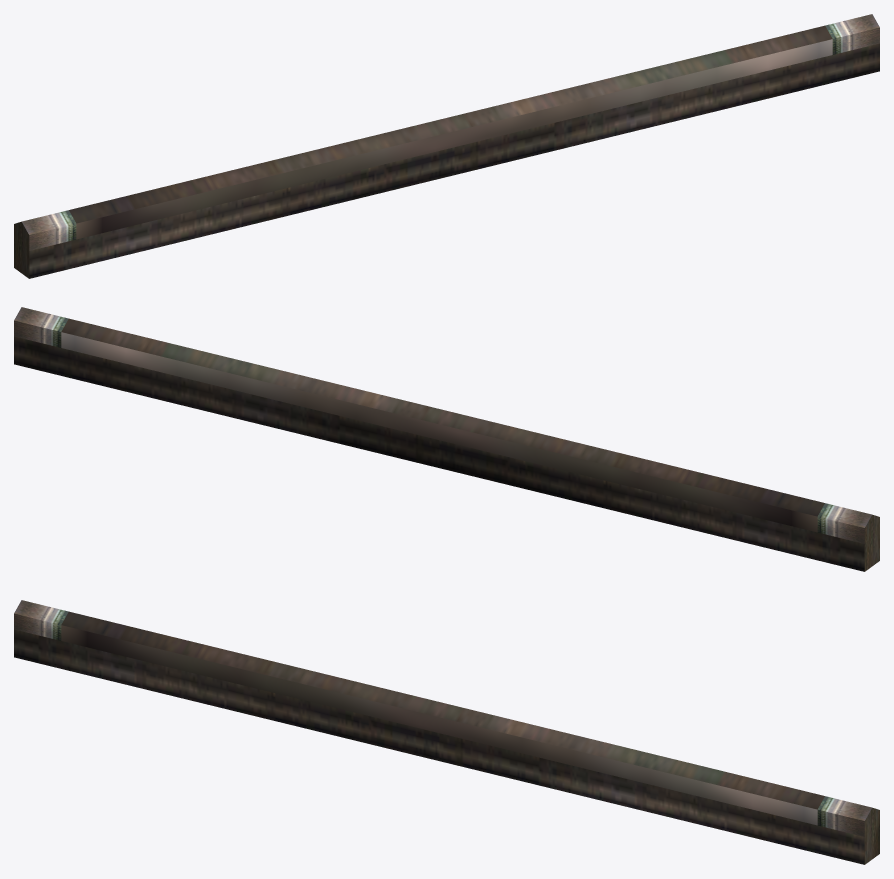
The model's file is 1bulb_flo.fbx.
The picture shows the model from 3 angles, top to bottom: view 1: azimuth 30°, elevation 25°; view 2: azimuth 150°, elevation 25°; view 3: azimuth 330°, elevation 25°; orthographic projection.
Parts seen in each view (by area): view 1: mesh_0; view 2: mesh_0; view 3: mesh_0.
Part boxes in pixels (bbox=[...]): mesh_0: bbox=[14, 14, 879, 278]; mesh_0: bbox=[14, 307, 879, 571]; mesh_0: bbox=[14, 600, 879, 864].
Bounding box in the file's own units: 180 × 10.47 × 5.57.
1 material, 1 textured.
